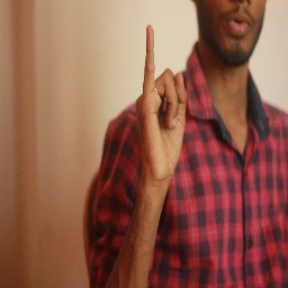I: (133, 23, 194, 177)
